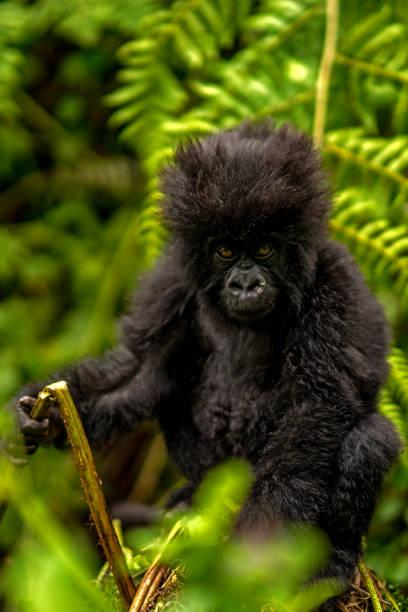goriile_montagne: (2, 107, 408, 603)
